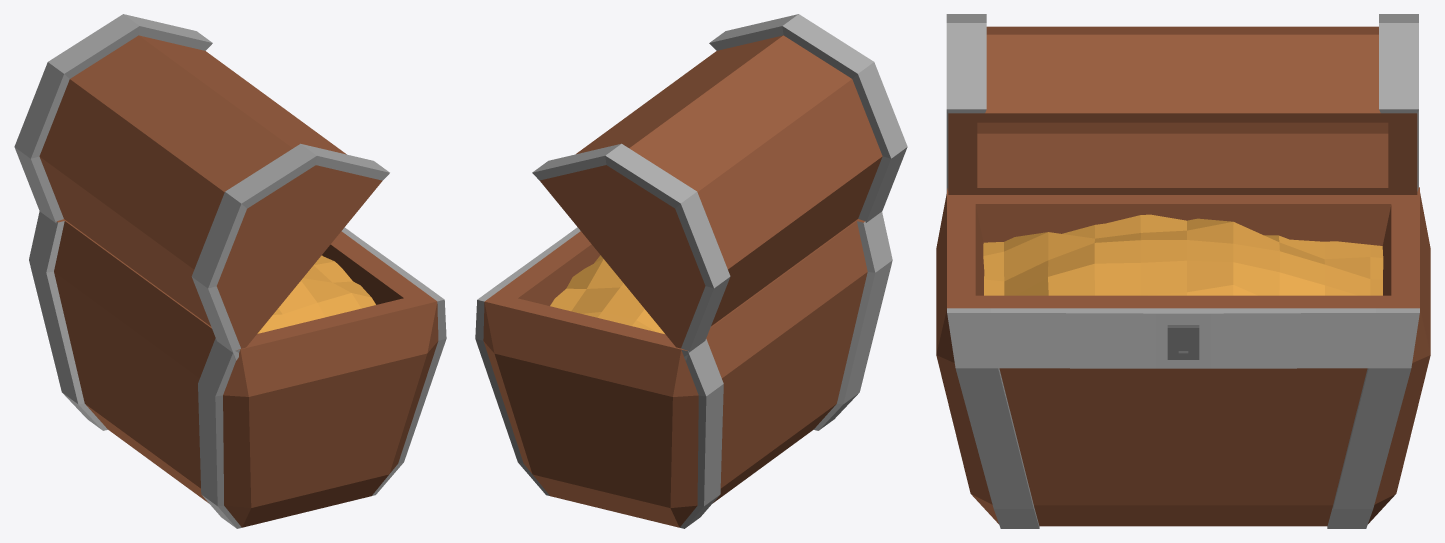
The model's file is Crypt_Chest_gold.glb.
The picture shows the model from 3 angles, left to right: view 1: azimuth 30°, elevation 25°; view 2: azimuth 150°, elevation 25°; view 3: azimuth 270°, elevation 25°; orthographic projection. The views are drawn at different scales.
Visible parts, largest first — view 1: ChestBottom; view 2: ChestBottom; view 3: ChestBottom.
Part boxes in pixels (x1,y1,x2,y2): ChestBottom: (14, 14, 446, 528); ChestBottom: (475, 14, 907, 528); ChestBottom: (936, 14, 1430, 528).
Bounding box in the file's own units: 0.7829 × 1.15 × 1.12.
